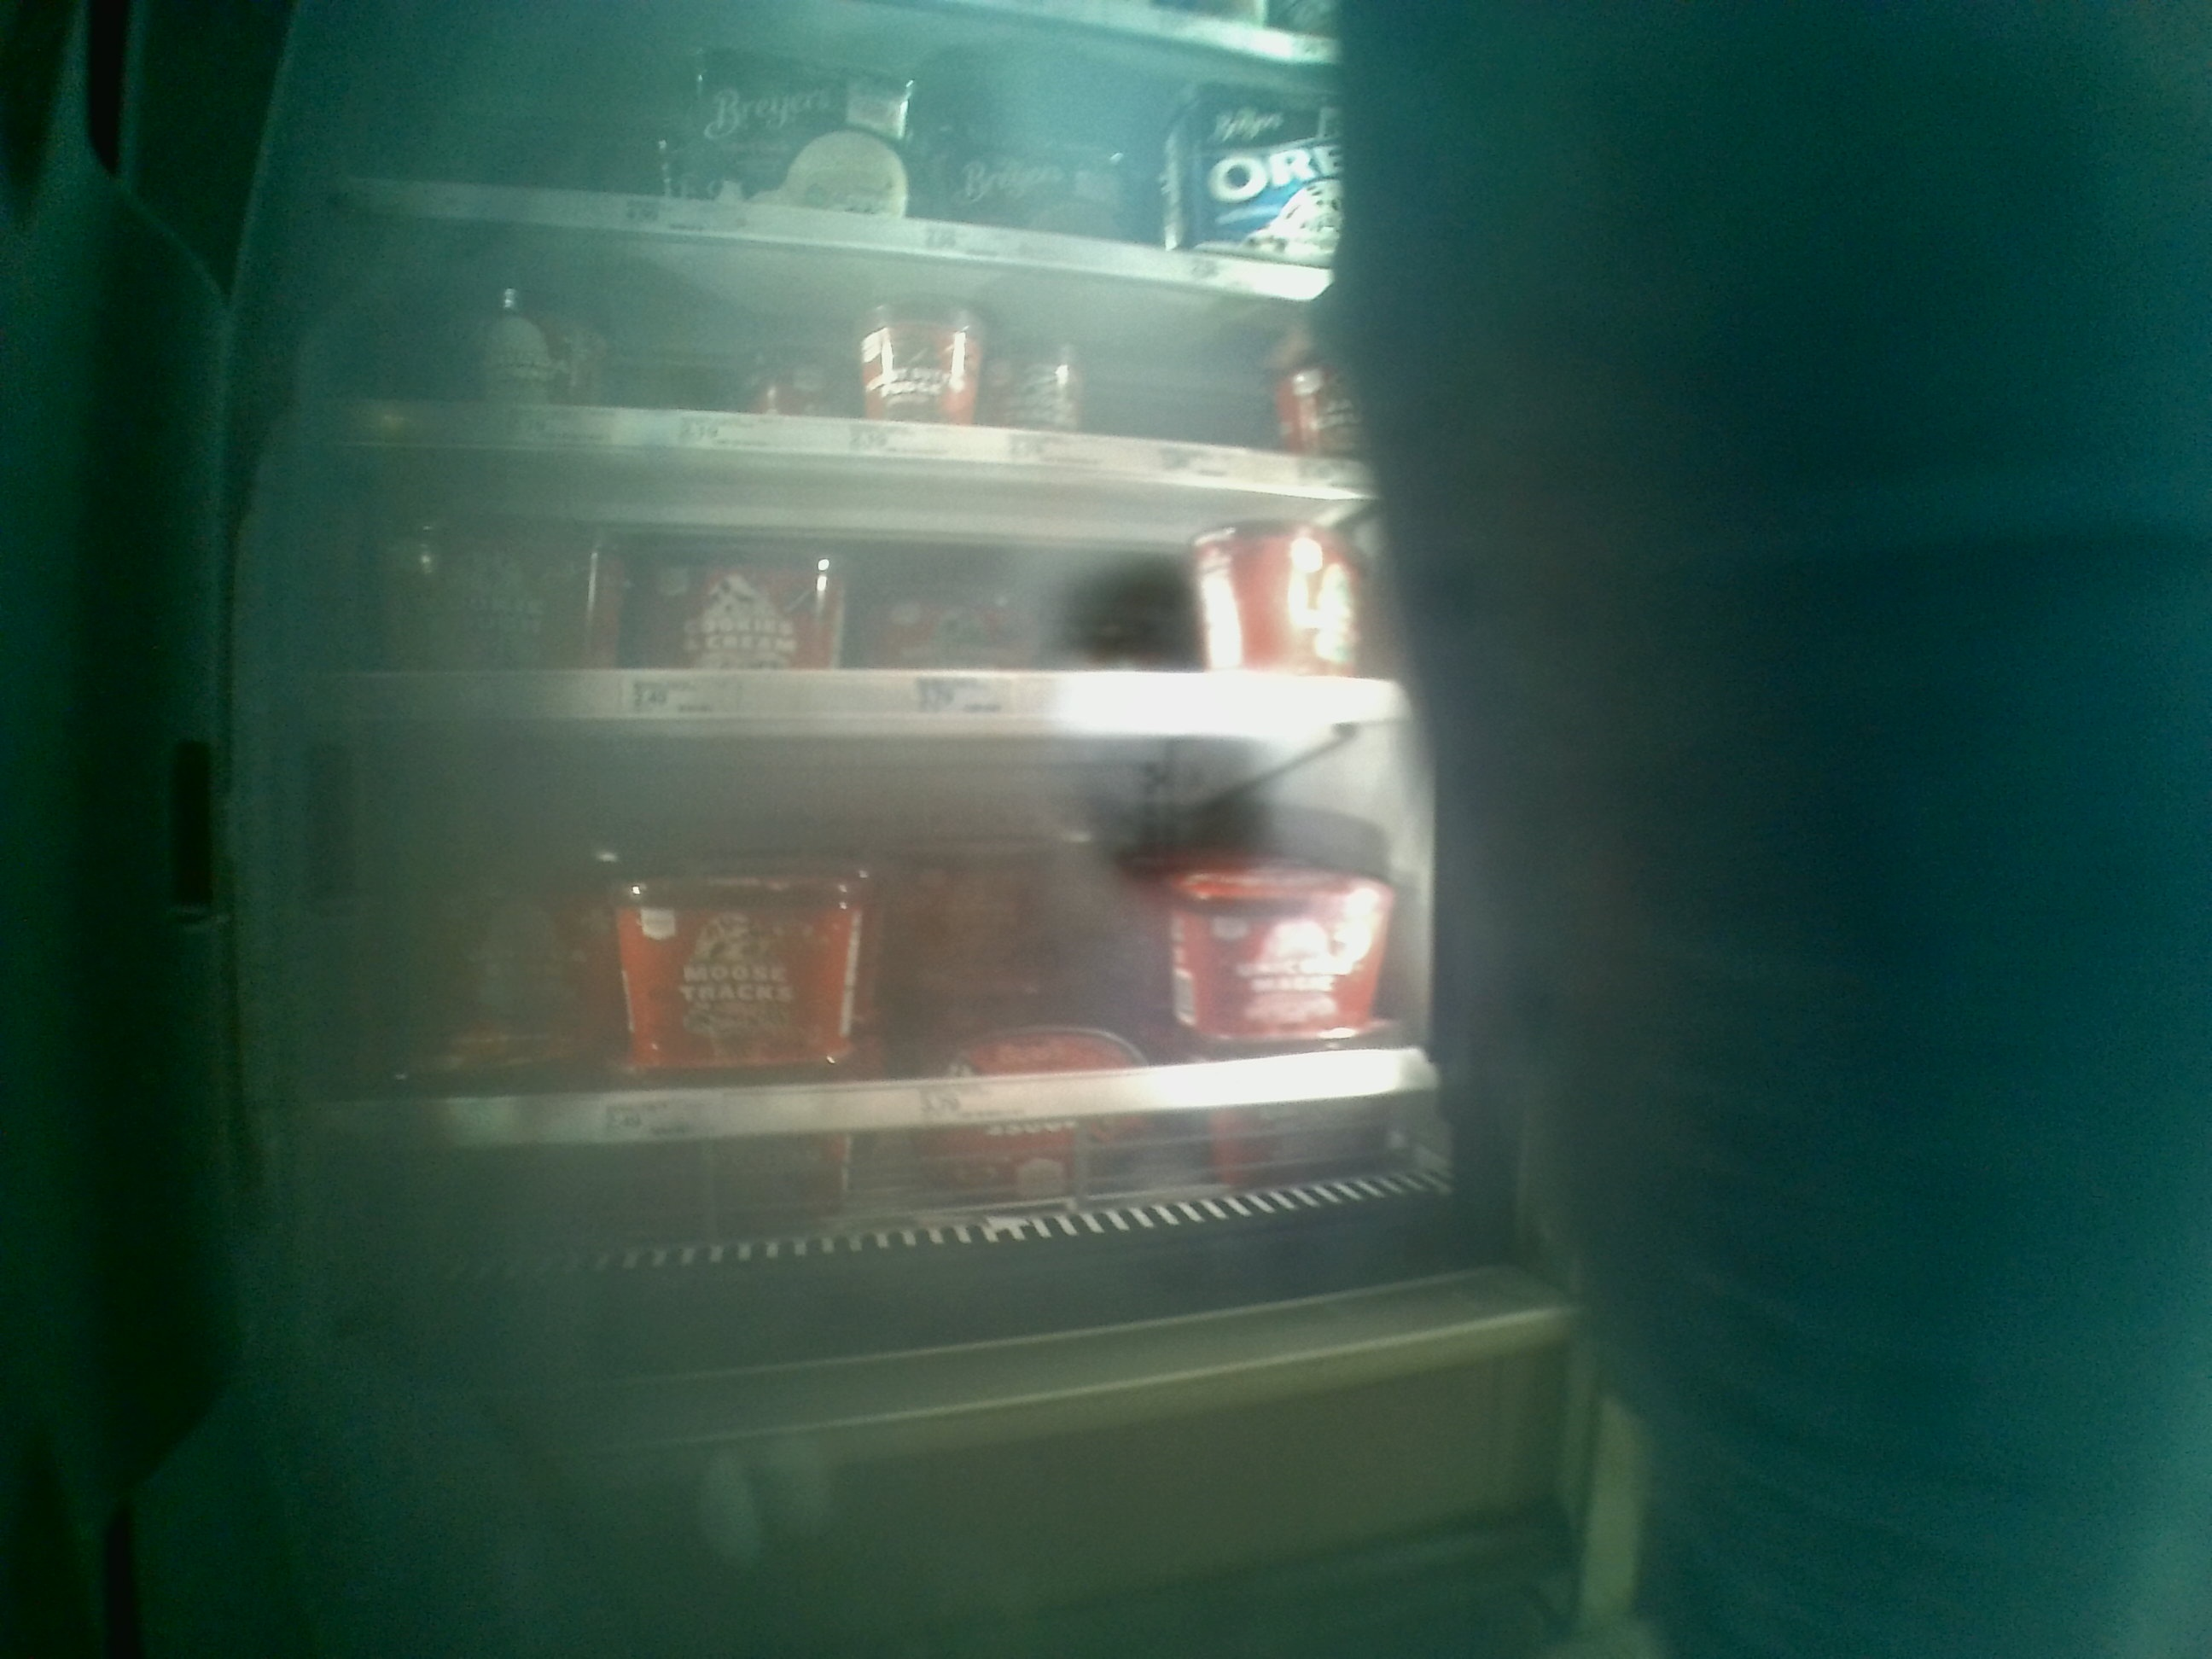ice-cream-shelf: (308, 730, 1432, 1141)
